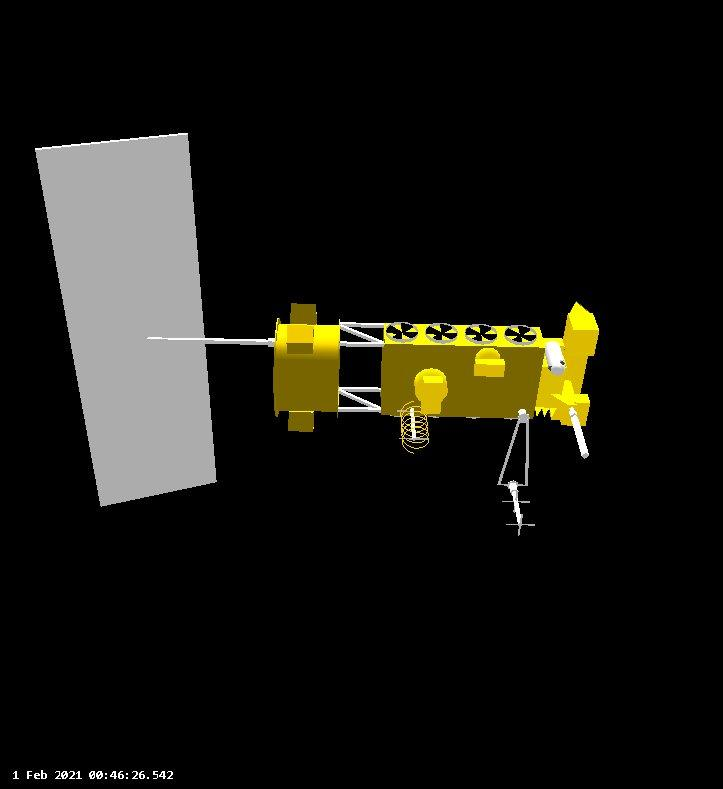antenna: (493, 475, 539, 545), (397, 395, 433, 457), (563, 404, 593, 463), (461, 319, 499, 348), (500, 320, 539, 346), (424, 319, 459, 346), (385, 319, 419, 346)
body: (269, 299, 597, 435)
solar: (31, 127, 221, 511)
